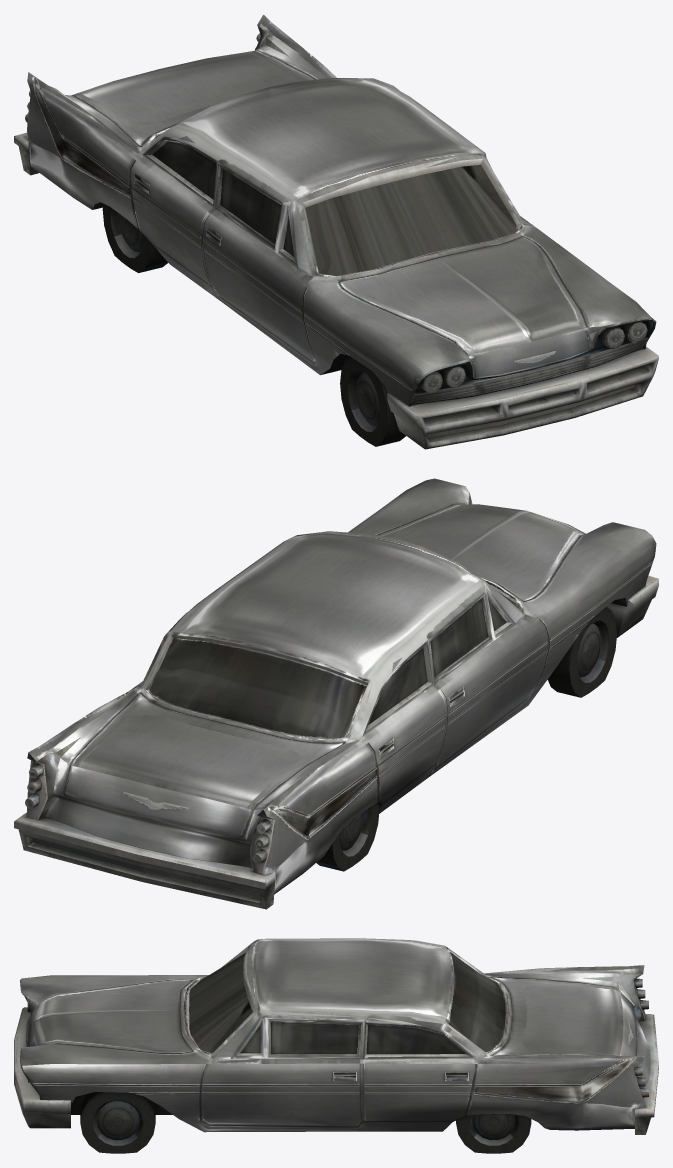
The model's file is car_2.glb.
3 views of the same model, one above another, from view 1: azimuth 30°, elevation 25°; view 2: azimuth 150°, elevation 25°; view 3: azimuth 270°, elevation 25° (orthographic). The views are drawn at different scales.
Visible parts, largest first — view 1: car_2; view 2: car_2; view 3: car_2.
Boxes of the visible parts, bbox=[...] form: car_2: bbox=[14, 15, 658, 449]; car_2: bbox=[14, 478, 658, 909]; car_2: bbox=[14, 938, 658, 1153].
Size of the model in its own units: 2.56 by 1.79 by 7.18.
Materials: 2 (2 with a texture image).
